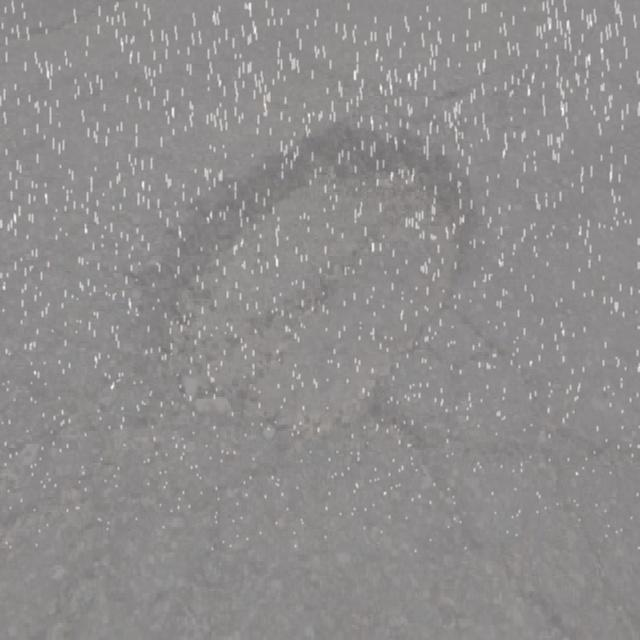Pothole: (134, 109, 494, 471)
